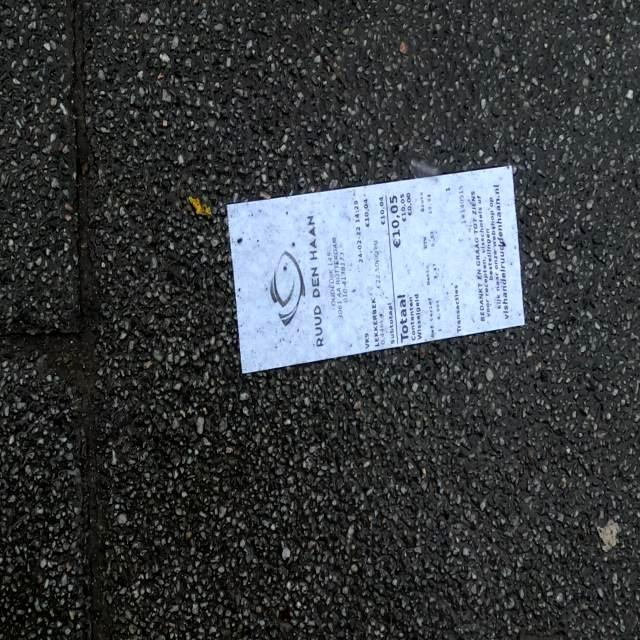Paper: (222, 162, 526, 378)
